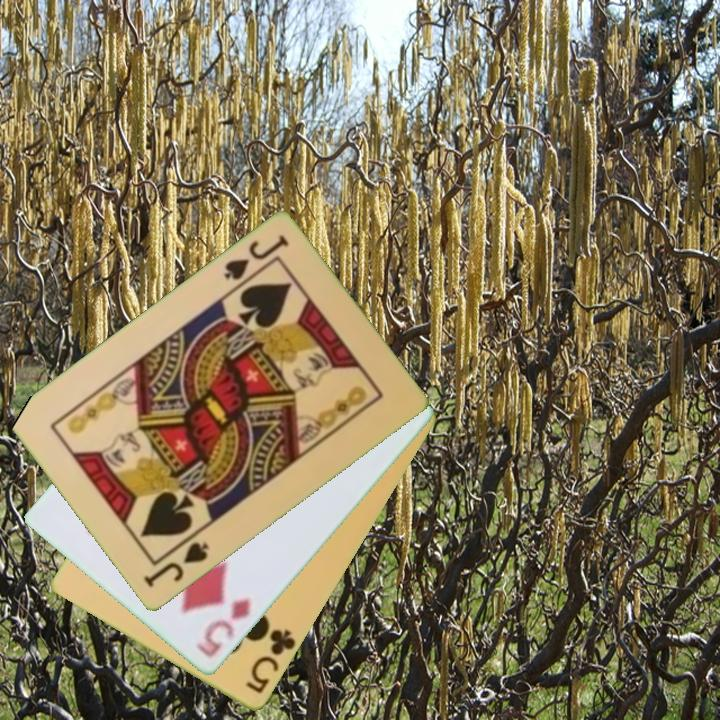5c: (242, 626, 299, 698)
5d: (192, 594, 254, 661)
Js: (140, 539, 213, 592), (220, 232, 292, 284)
